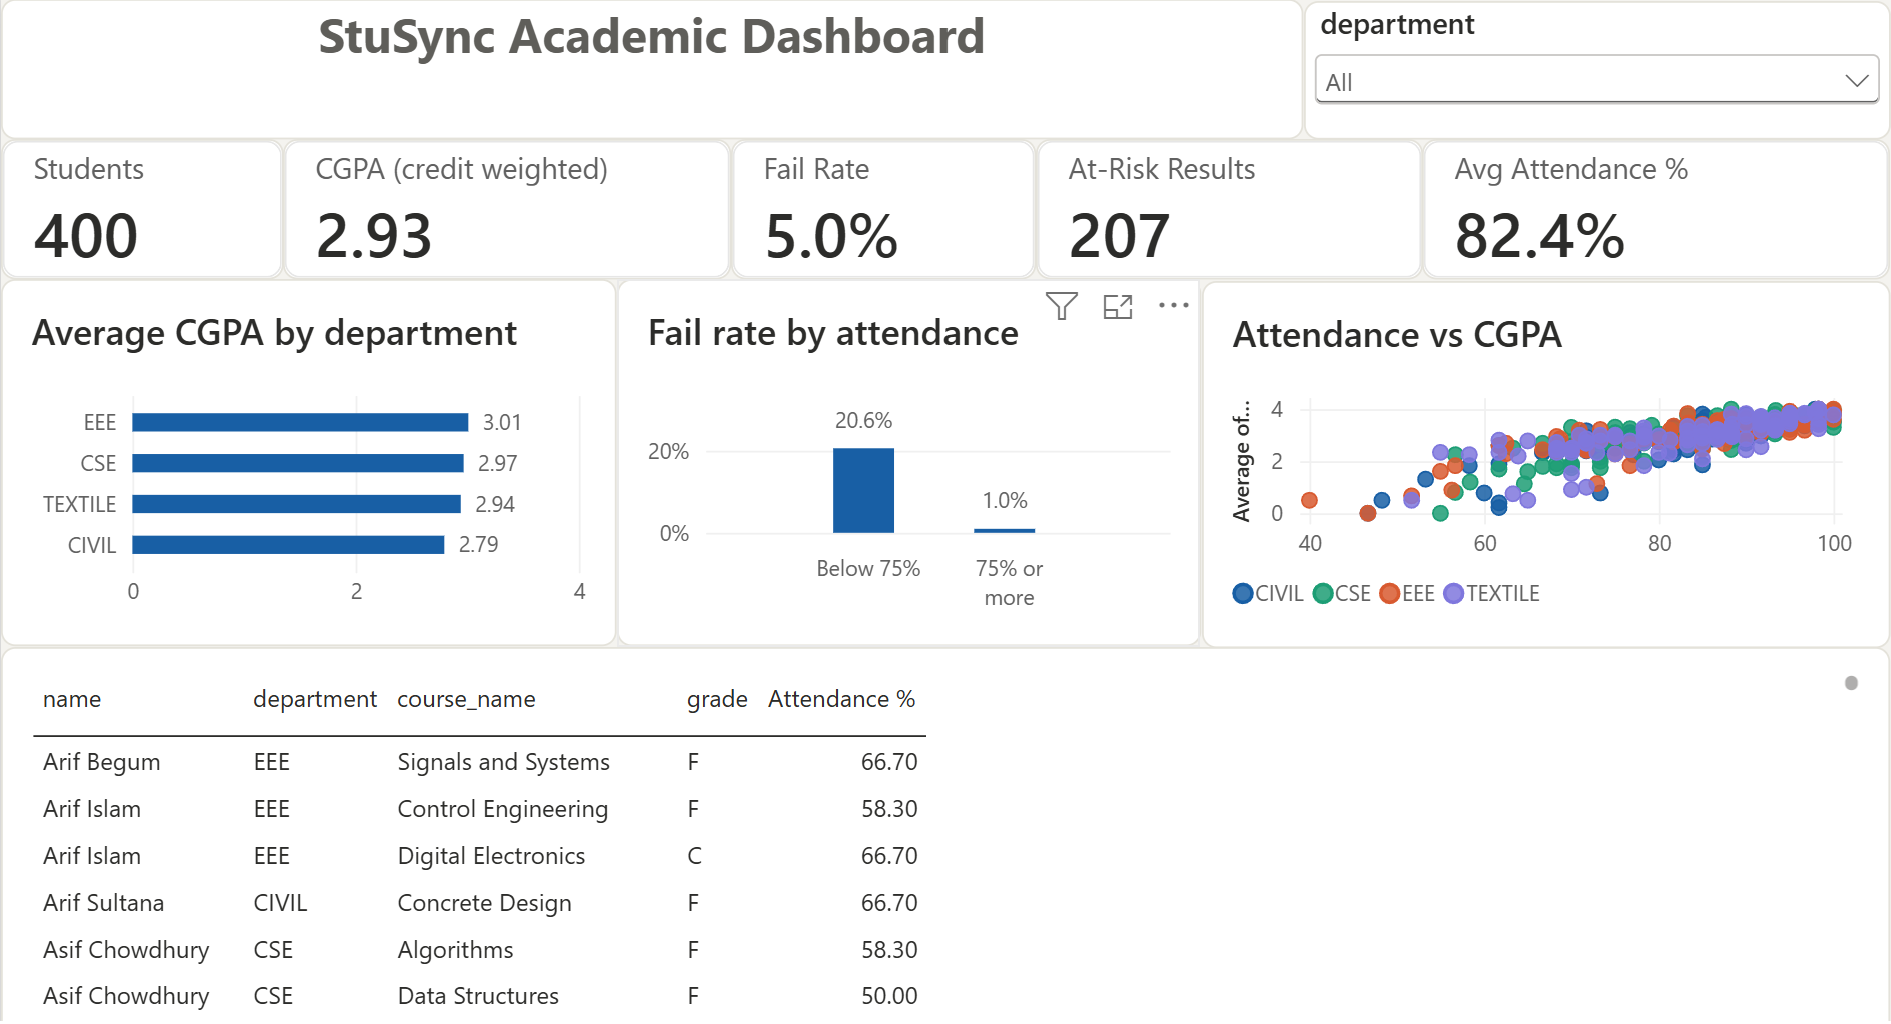

The dashboard page shown, as its layout file describes it:
{"tool":"powerbi","page":{"name":"Page 1","canvas":[1920,1080],"ordinal":0},"visuals":[{"type":"cardVisual","fields":{"Data":["vw_course_results.Students"]},"box":[0,78,157,78],"z":0},{"type":"cardVisual","fields":{"Data":["vw_course_results.CGPA (credit weighted)"]},"box":[157,78,249,78],"z":1000},{"type":"cardVisual","fields":{"Data":["vw_course_results.Fail Rate"]},"box":[405,78,169,78],"z":2000},{"type":"cardVisual","fields":{"Data":["vw_course_results.At-Risk Results"]},"box":[574,78,215,78],"z":3000},{"type":"cardVisual","fields":{"Data":["vw_course_results.Avg Attendance %"]},"box":[789,78,260,78],"z":4000},{"type":"clusteredBarChart","title":"Average CGPA by department","fields":{"Category":["vw_course_results.department"],"Y":["vw_course_results.CGPA (credit weighted)"]},"box":[0,156,342,204],"z":5000},{"type":"lineClusteredColumnComboChart","title":"Fail rate by attendance","fields":{"Category":["vw_course_results.attendance_band"],"Y":["vw_course_results.Fail Rate"]},"box":[342,156,324,204],"z":6000},{"type":"scatterChart","title":"Attendance vs CGPA","fields":{"Category":["vw_student_summary.student_id"],"Series":["vw_student_summary.department"],"X":["Avg(vw_student_summary.avg_attendance_pct)"],"Y":["Avg(vw_student_summary.cgpa)"]},"box":[666.2,156.2,382.5,203.8],"z":7000},{"type":"tableEx","fields":{"Values":["vw_course_results.name","vw_course_results.department","vw_course_results.course_name","vw_course_results.grade","vw_course_results.Attendance %"]},"box":[0,360,1048.8,273.8],"z":8000},{"type":"slicer","fields":{"Values":["vw_student_summary.department"]},"box":[723,1,326,77],"z":9000},{"type":"textbox","box":[0,0,723,78],"z":10000}]}

Visuals, with their boxes on the page's 1920x1080 design canvas (x1, y1, x2, y2). These are canvas units, not pixel positions in the 1891x1024 screenshot, which may show the page scaled, cropped or inside an application window:
cardVisual - vw_course_results.Students: region(0, 78, 157, 156)
cardVisual - vw_course_results.CGPA (credit weighted): region(157, 78, 406, 156)
cardVisual - vw_course_results.Fail Rate: region(405, 78, 574, 156)
cardVisual - vw_course_results.At-Risk Results: region(574, 78, 789, 156)
cardVisual - vw_course_results.Avg Attendance %: region(789, 78, 1049, 156)
"Average CGPA by department" clusteredBarChart: region(0, 156, 342, 360)
"Fail rate by attendance" lineClusteredColumnComboChart: region(342, 156, 666, 360)
"Attendance vs CGPA" scatterChart: region(666, 156, 1049, 360)
tableEx - vw_course_results.name x vw_course_results.department: region(0, 360, 1049, 634)
slicer - vw_student_summary.department: region(723, 1, 1049, 78)
textbox: region(0, 0, 723, 78)
